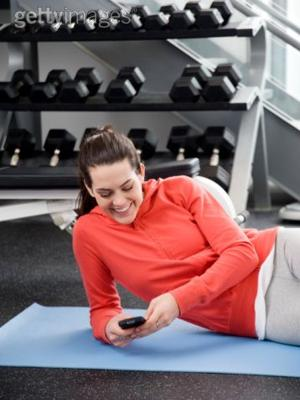person: (71, 125, 300, 352)
